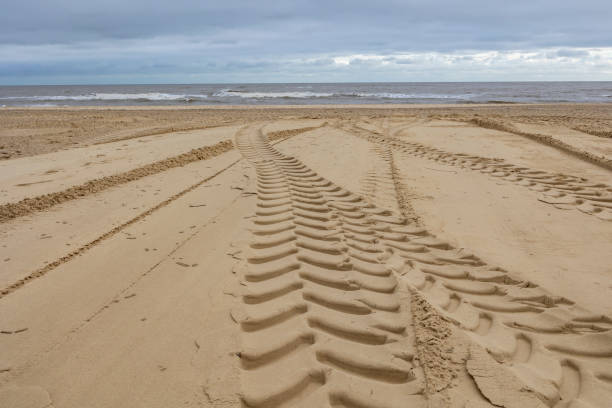vehicle_track: (236, 130, 425, 407), (377, 220, 611, 406), (340, 124, 611, 220)
